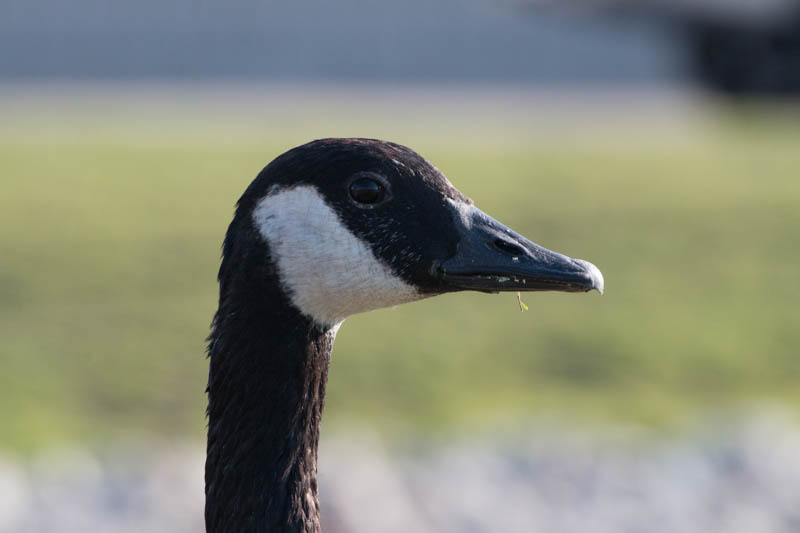goose-head: (218, 136, 605, 336)
